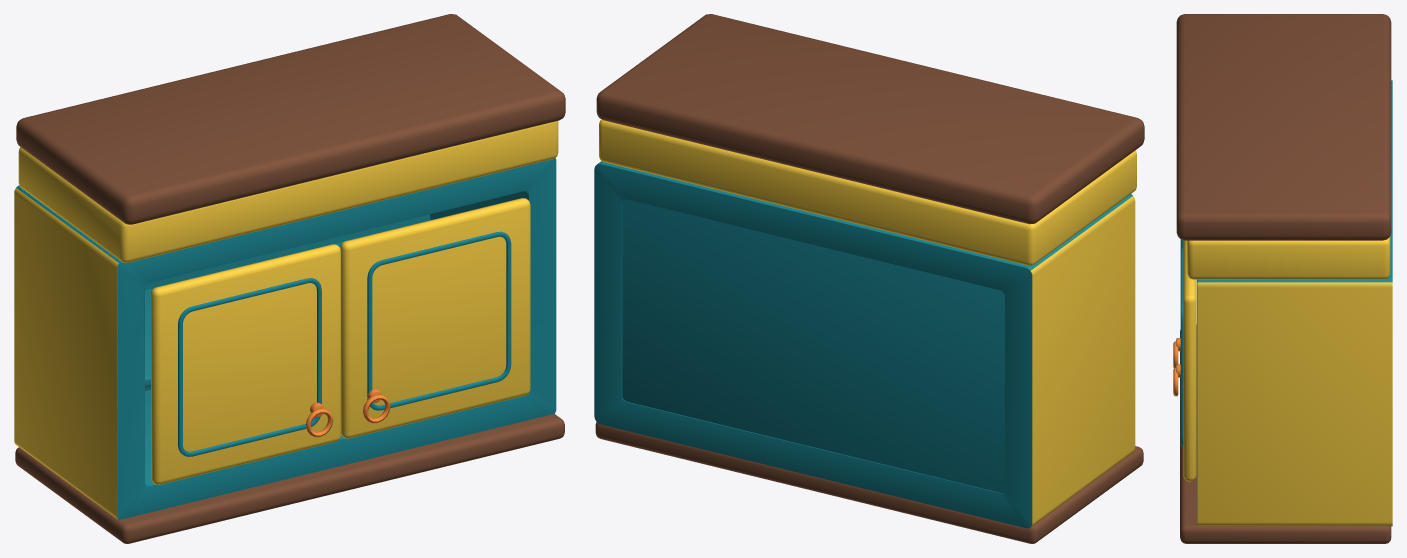
The model's file is armario_parede_2portas_colonial.glb.
The picture shows the model from 3 angles, left to right: view 1: azimuth 30°, elevation 25°; view 2: azimuth 150°, elevation 25°; view 3: azimuth 270°, elevation 25°; orthographic projection. The views are drawn at different scales.
Visible parts, largest first — view 1: armario_parede_2portas_colonial, porta_1, porta_2; view 2: armario_parede_2portas_colonial; view 3: armario_parede_2portas_colonial, porta_2.
Part boxes in pixels (left/top/right/bottom): armario_parede_2portas_colonial: left=14, top=14, right=565, bottom=543; porta_1: left=151, top=244, right=340, bottom=484; porta_2: left=340, top=198, right=530, bottom=438; armario_parede_2portas_colonial: left=594, top=14, right=1144, bottom=543; armario_parede_2portas_colonial: left=1176, top=14, right=1392, bottom=543; porta_2: left=1173, top=240, right=1196, bottom=481.
Bounding box in the file's own units: 0.798 × 0.6 × 0.3612.
Materials: 1 (1 with a texture image).
